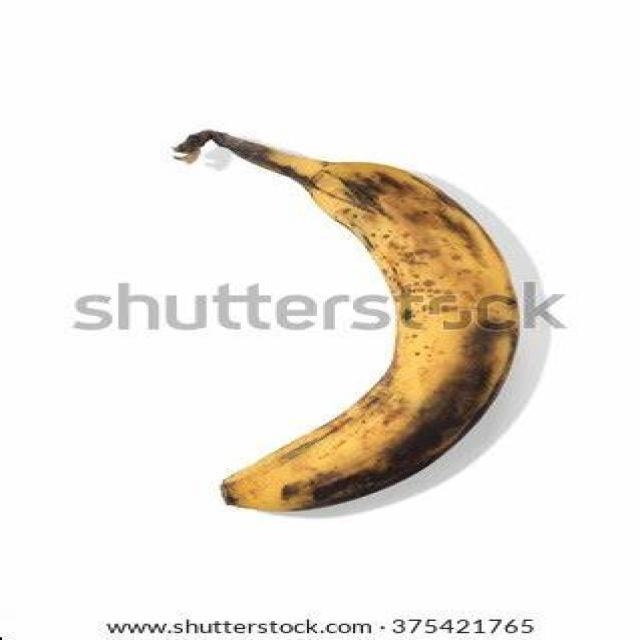Banana: (174, 132, 524, 529)
